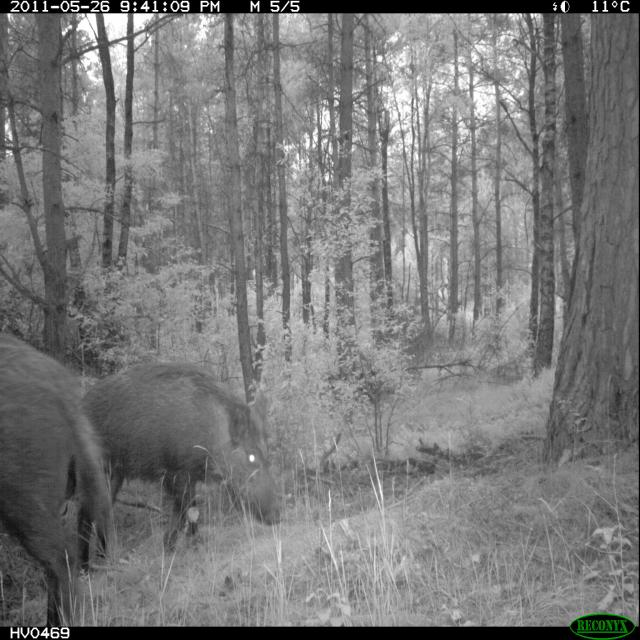boar: (31, 336, 262, 579), (1, 322, 146, 614)
